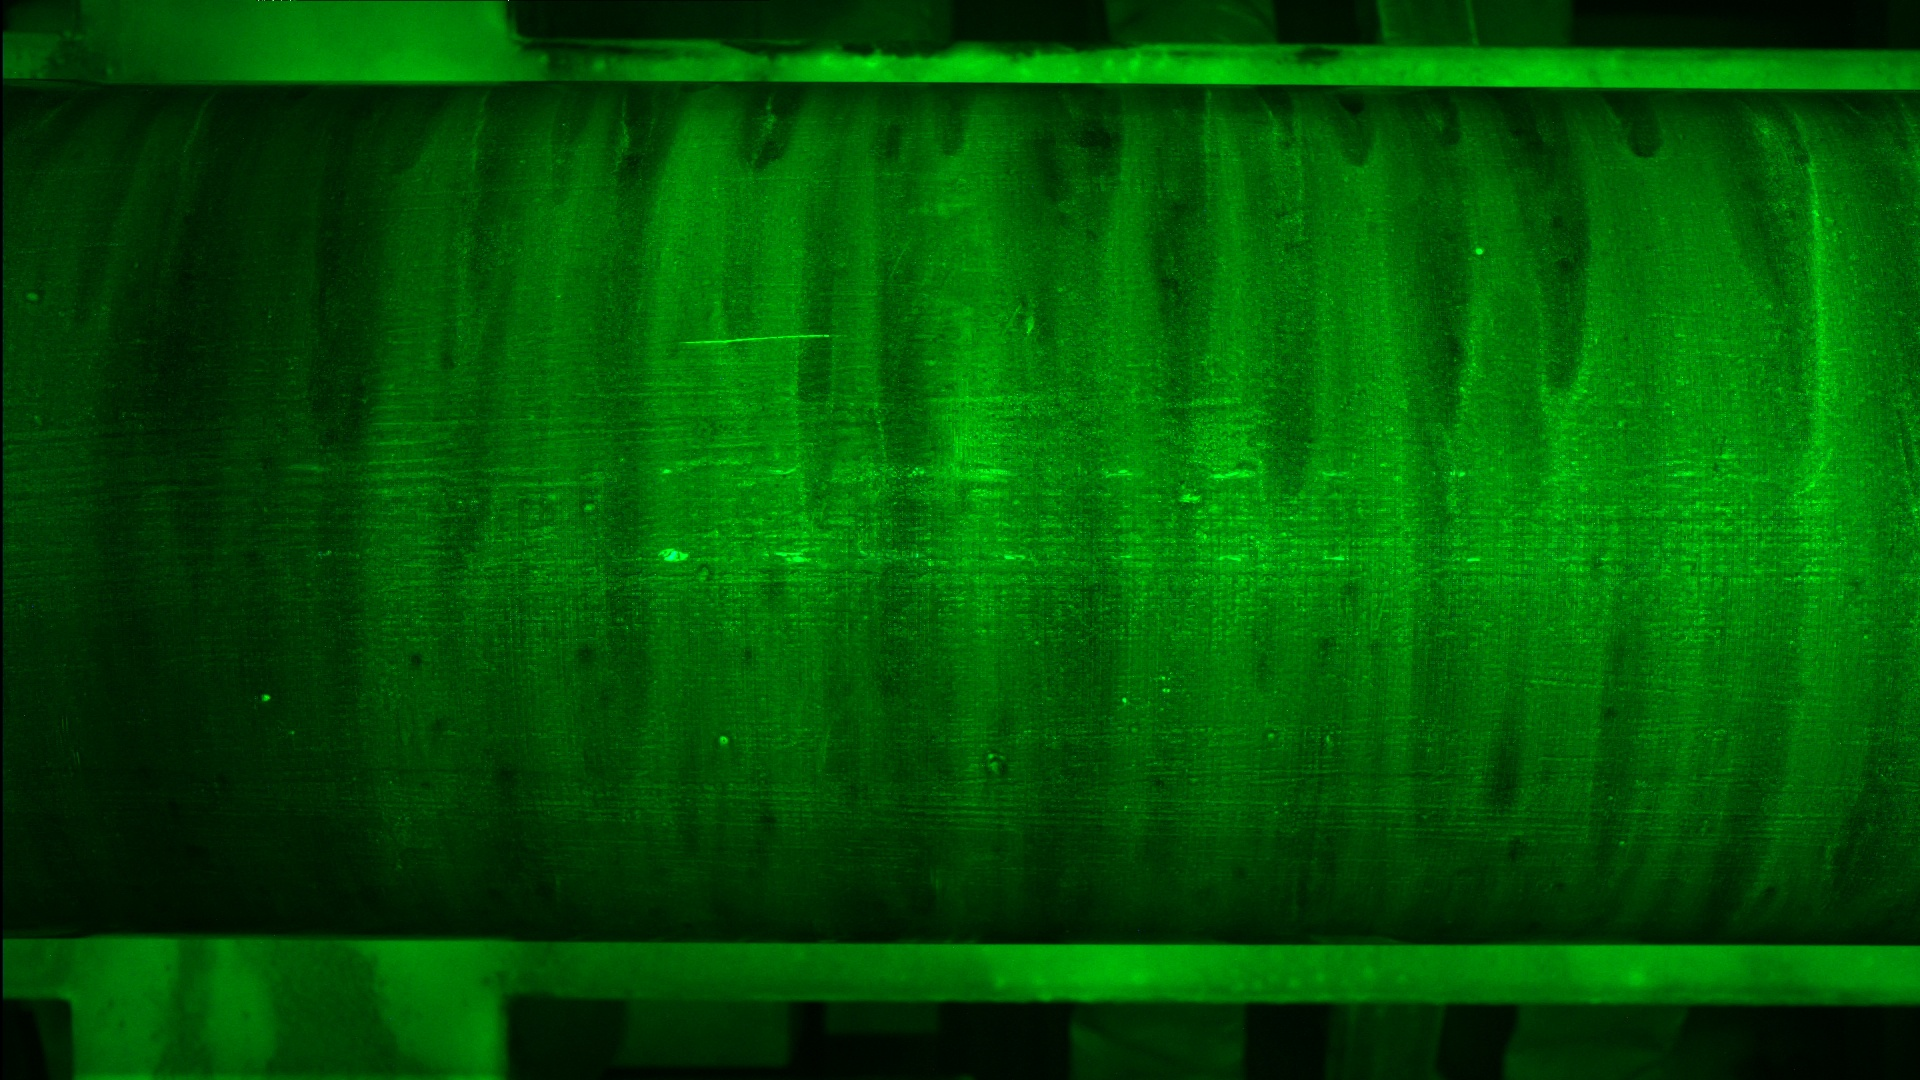flaw: (674, 320, 832, 351)
